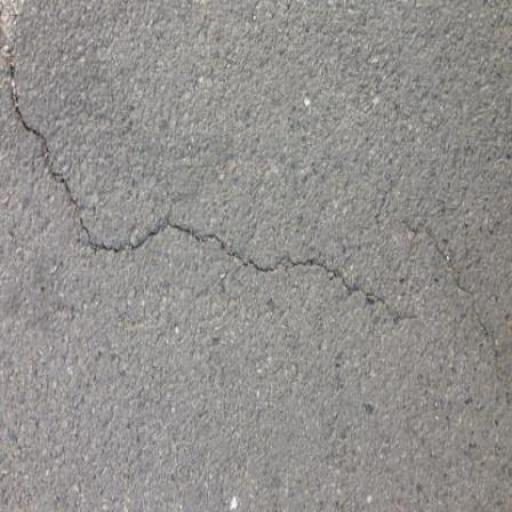spalling: (0, 36, 436, 339)
